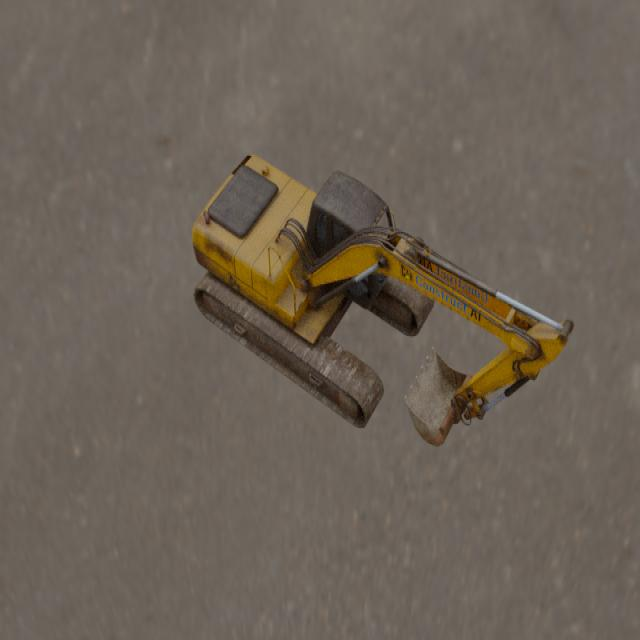excavator: (192, 153, 574, 447)
